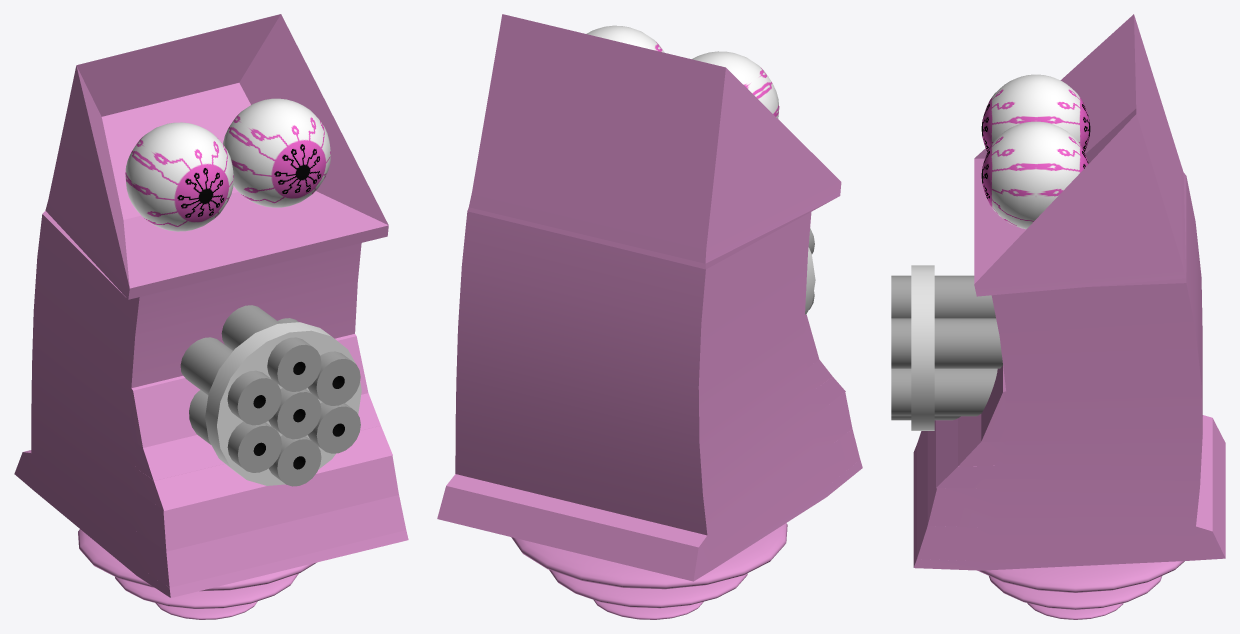
Rendered from MagentaDoubleCombined.fbx.
3 views of the same model, side by side, from view 1: azimuth 30°, elevation 25°; view 2: azimuth 150°, elevation 25°; view 3: azimuth 270°, elevation 25° (orthographic). The views are drawn at different scales.
Visible parts, largest first — view 1: polySurface7; view 2: polySurface7; view 3: polySurface7.
Boxes of the visible parts, <box> form: polySurface7: <box>14,14,408,619</box>; polySurface7: <box>437,14,862,619</box>; polySurface7: <box>891,14,1225,619</box>.
Bounding box in the file's own units: 2.56 × 5.11 × 2.87.
Materials: 5 (1 with a texture image).
